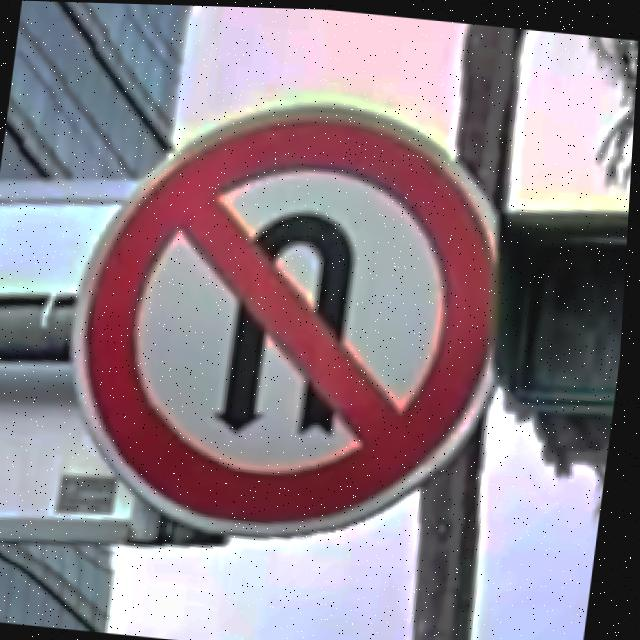nouturn: (91, 116, 496, 519)
